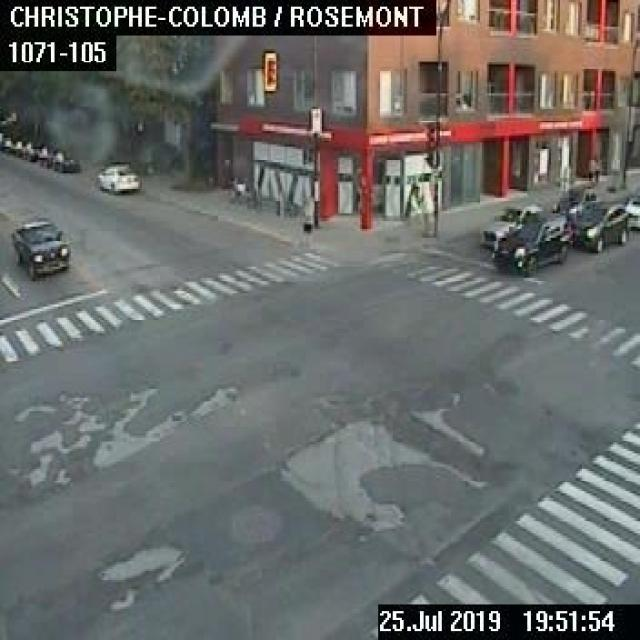pedestrian: (300, 193, 314, 245)
vehicle: (492, 211, 570, 272), (11, 217, 68, 277), (571, 201, 627, 249), (481, 203, 541, 246), (550, 185, 595, 215), (96, 163, 137, 191), (52, 151, 76, 171), (625, 196, 638, 227), (37, 146, 53, 166), (22, 141, 38, 159), (1, 137, 12, 151), (12, 140, 23, 153)
